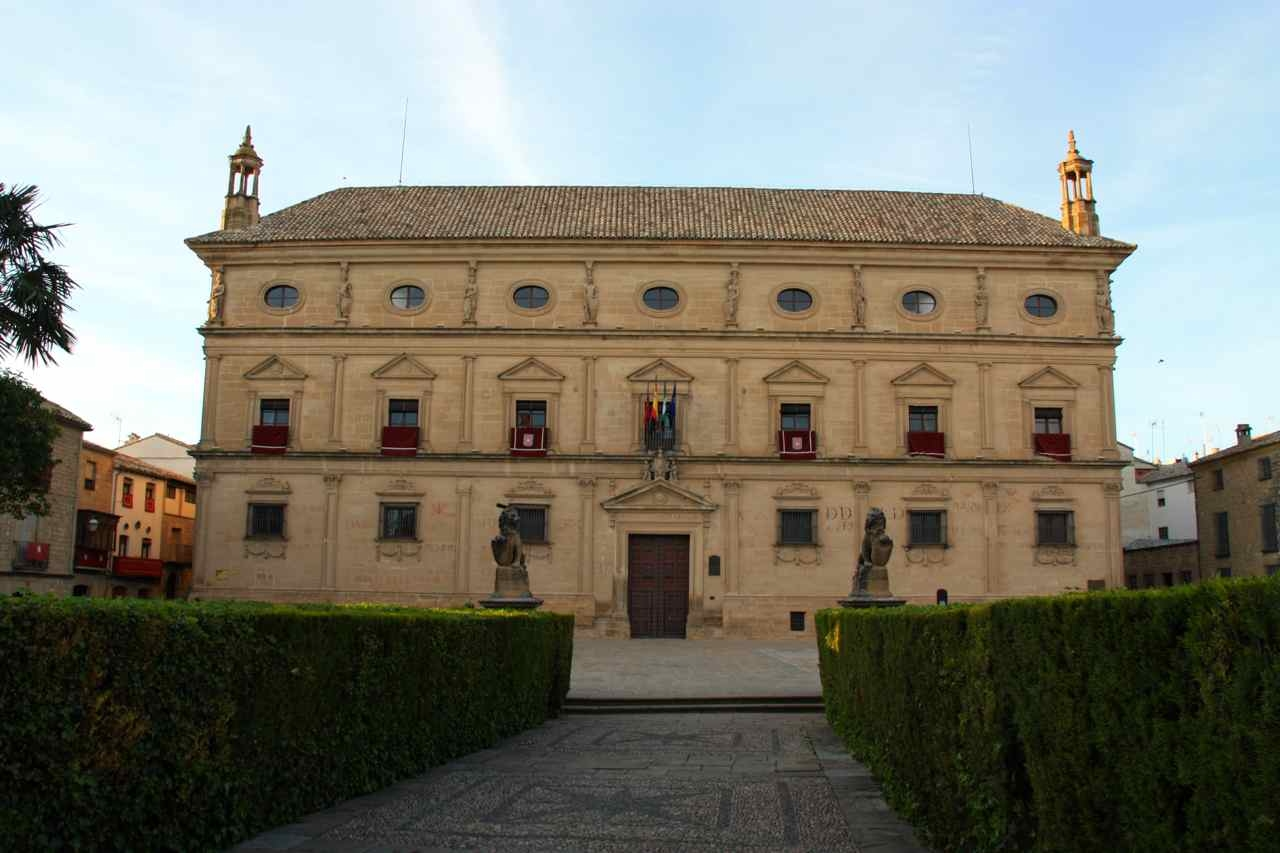fronton: (599, 477, 722, 514), (623, 356, 697, 386), (240, 352, 310, 382), (370, 352, 440, 381), (889, 360, 958, 389), (496, 354, 567, 382), (762, 358, 832, 386), (1016, 364, 1082, 390)
ojo-de-buey: (610, 515, 707, 642), (498, 385, 562, 460), (240, 382, 305, 455), (372, 383, 435, 457), (765, 389, 826, 462), (1020, 395, 1080, 466), (894, 393, 953, 463), (894, 283, 945, 323), (636, 279, 688, 317), (1017, 286, 1067, 325), (771, 280, 820, 319), (384, 279, 431, 315), (259, 278, 305, 314), (509, 279, 555, 315)
